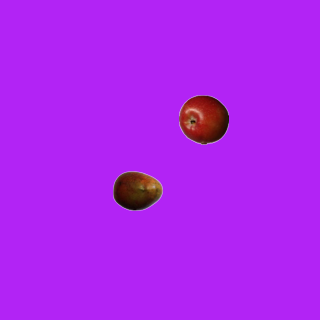Apple Braeburn: (178, 94, 228, 144)
Mango Red: (112, 165, 162, 215)
